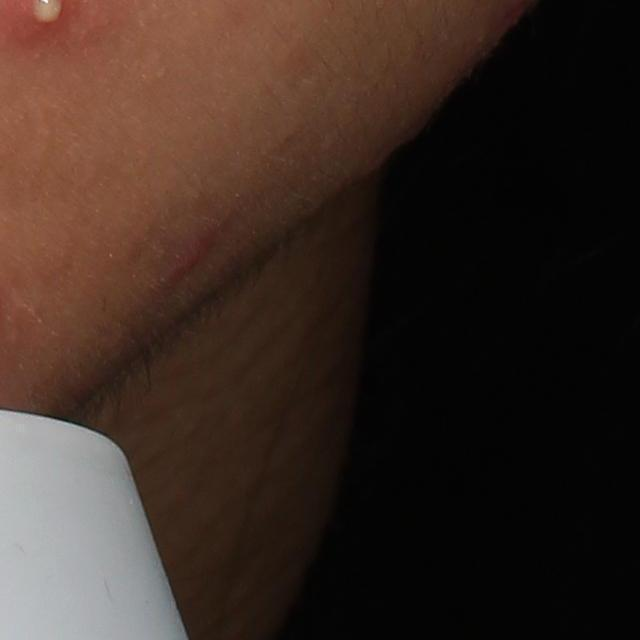papule: (167, 232, 220, 282)
